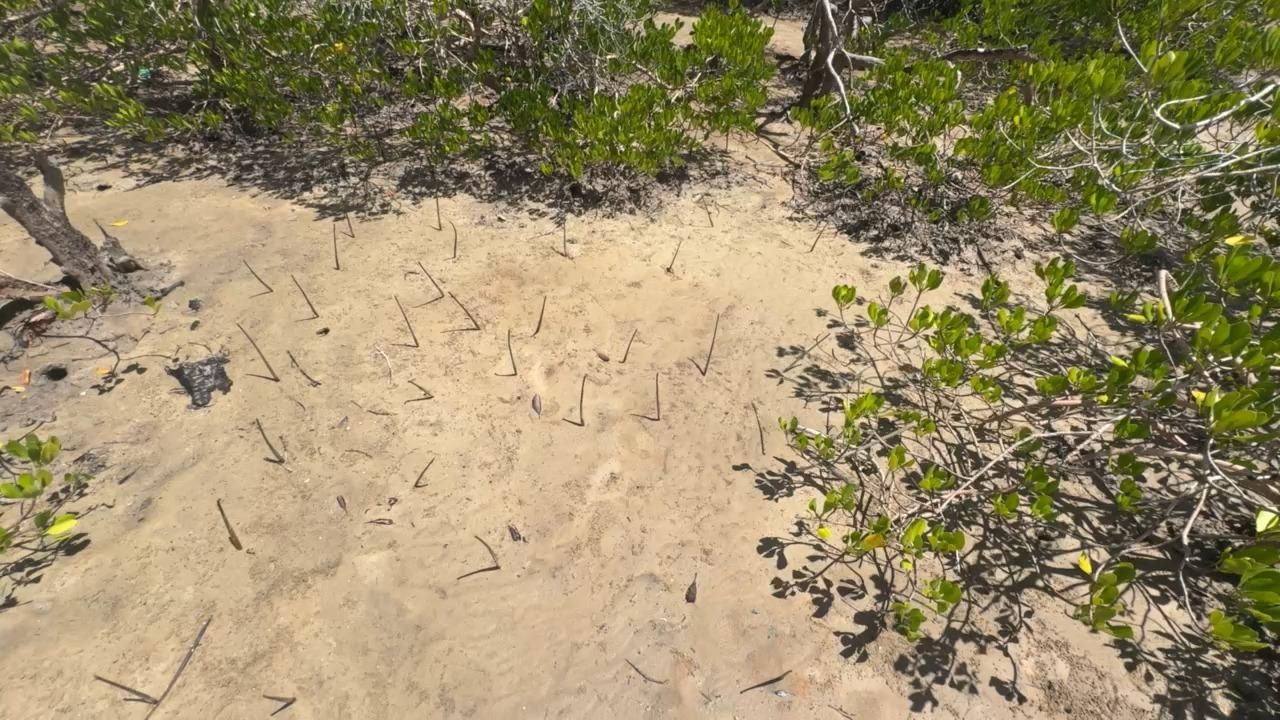Tree: (894, 262, 946, 341), (236, 322, 279, 381), (93, 674, 156, 703), (447, 291, 481, 330), (217, 497, 242, 550), (290, 274, 320, 317), (256, 417, 284, 463), (394, 295, 419, 346), (287, 349, 322, 385), (702, 313, 720, 375), (243, 259, 274, 292), (418, 261, 444, 297), (810, 221, 828, 252), (533, 296, 547, 333), (507, 329, 518, 375), (407, 380, 435, 398), (667, 240, 682, 272), (579, 373, 588, 426), (623, 329, 637, 362), (701, 194, 714, 226), (332, 223, 340, 271), (449, 220, 457, 259), (92, 218, 107, 238), (262, 694, 295, 703), (344, 211, 354, 237), (435, 194, 441, 230), (655, 373, 659, 420), (563, 215, 567, 255)
